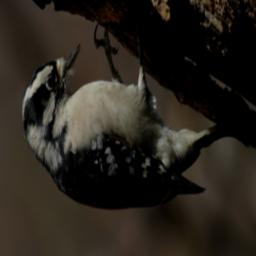Woodpecker: (23, 22, 236, 210)
